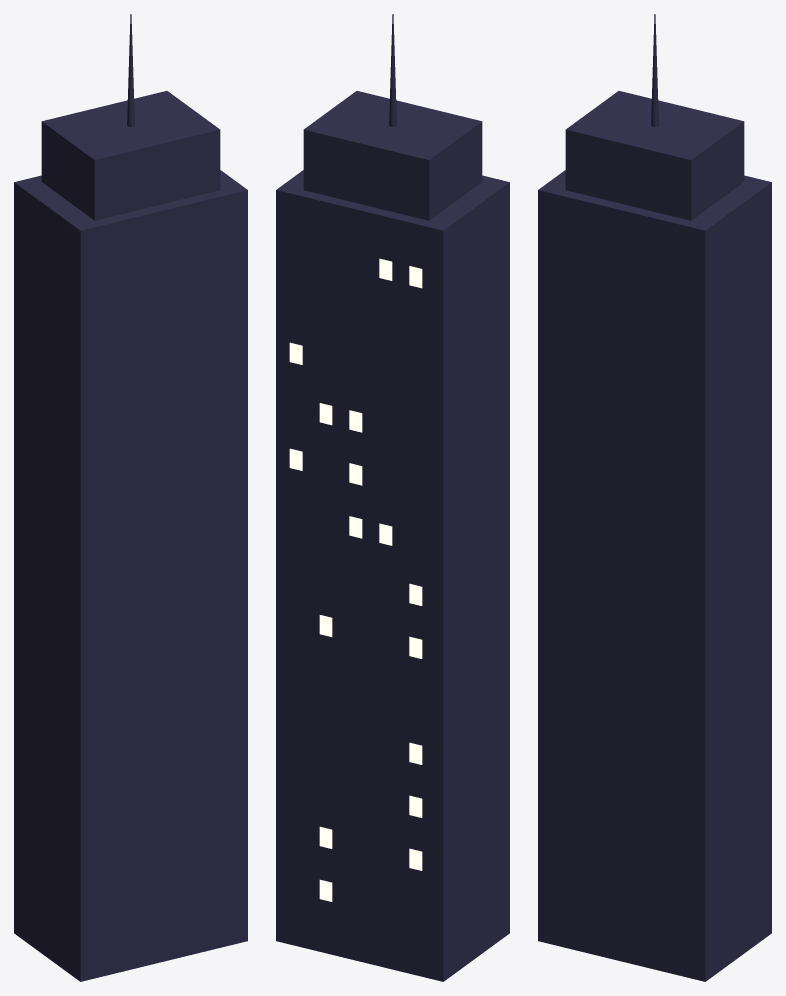
Rendered from Tower0.fbx.
3 renders of one model, left to right at view 1: azimuth 30°, elevation 25°; view 2: azimuth 150°, elevation 25°; view 3: azimuth 330°, elevation 25°, orthographic.
Visible parts, largest first — view 1: Tower; view 2: Tower, Windows; view 3: Tower.
Boxes of the visible parts, x1=… form: Tower: x1=14, y1=14, x2=247, y2=981; Tower: x1=276, y1=14, x2=509, y2=981; Windows: x1=289, y1=258, x2=422, y2=901; Tower: x1=538, y1=14, x2=771, y2=981.
Bounding box in the file's own units: 7.27 × 38.34 × 5.02.
